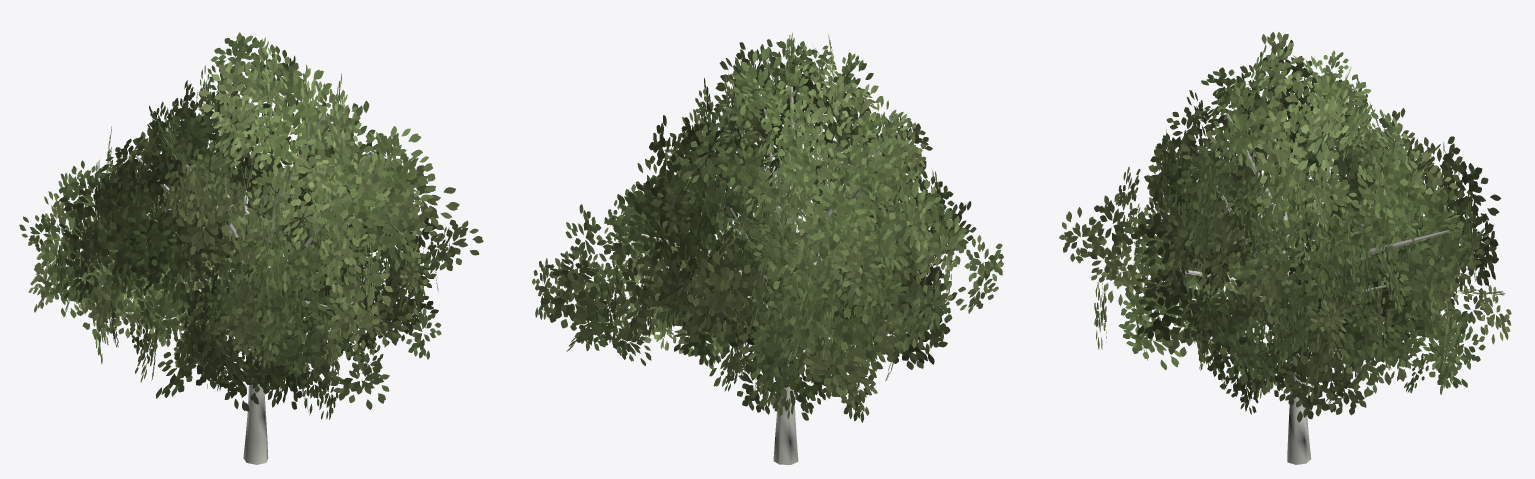
File: birch_1.glb
The picture shows the model from 3 angles, left to right: view 1: azimuth 30°, elevation 25°; view 2: azimuth 150°, elevation 25°; view 3: azimuth 270°, elevation 25°; orthographic projection.
Visible parts, largest first — view 1: birch_1; view 2: birch_1; view 3: birch_1.
Part boxes in pixels (<box>): birch_1: <box>19,32,483,464</box>; birch_1: <box>532,32,1003,464</box>; birch_1: <box>1059,32,1511,464</box>.
Bounding box in the file's own units: 0.959 × 1 × 1.
Materials: 2 (1 with a texture image).
